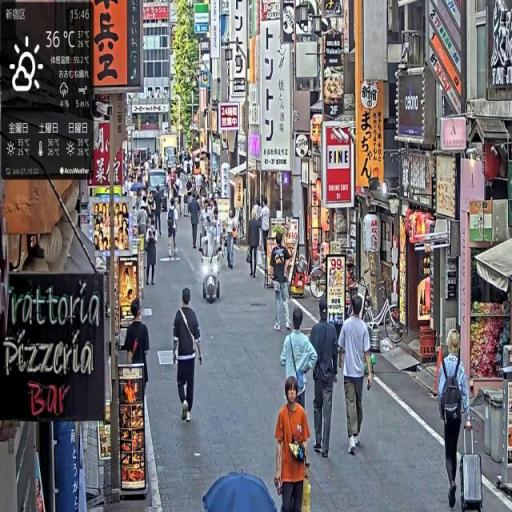person: (436, 331, 473, 511), (338, 295, 375, 456), (280, 307, 317, 457), (276, 374, 313, 512), (310, 297, 340, 460), (173, 287, 206, 426), (124, 300, 151, 409), (269, 233, 292, 333), (247, 206, 262, 279), (168, 200, 180, 261), (190, 192, 202, 250)
